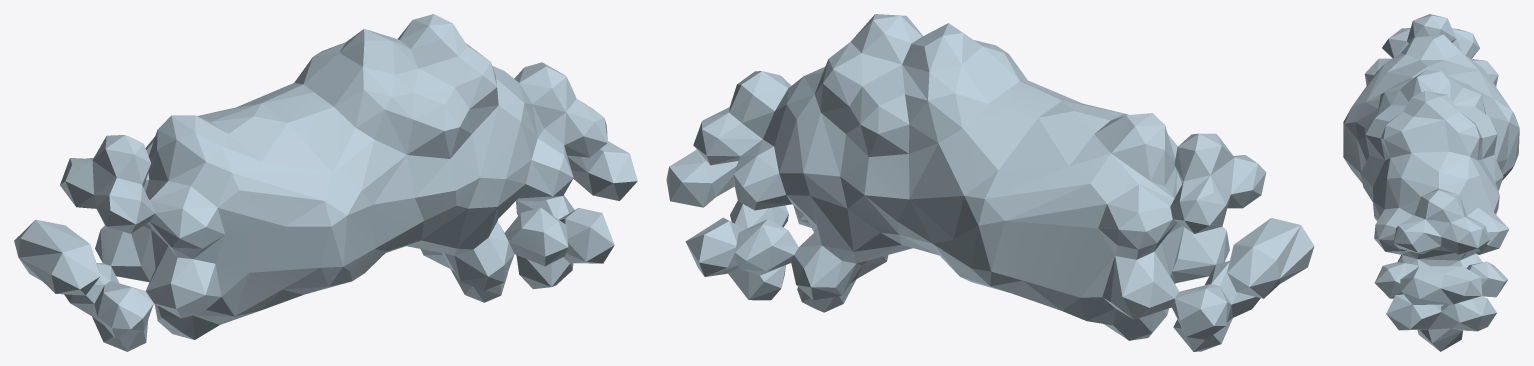
The model's file is stylize_cloud_1.fbx.
3 views of the same model, side by side, from view 1: azimuth 30°, elevation 25°; view 2: azimuth 150°, elevation 25°; view 3: azimuth 270°, elevation 25° (orthographic). The views are drawn at different scales.
Parts seen in each view (by area): view 1: cloud_81; view 2: cloud_81; view 3: cloud_81.
Boxes of the visible parts, x1,y1,x2,y2 form: cloud_81: (14,14,637,351); cloud_81: (666,14,1314,351); cloud_81: (1343,14,1519,351).
Size of the model in its own units: 503 by 245 by 183.
